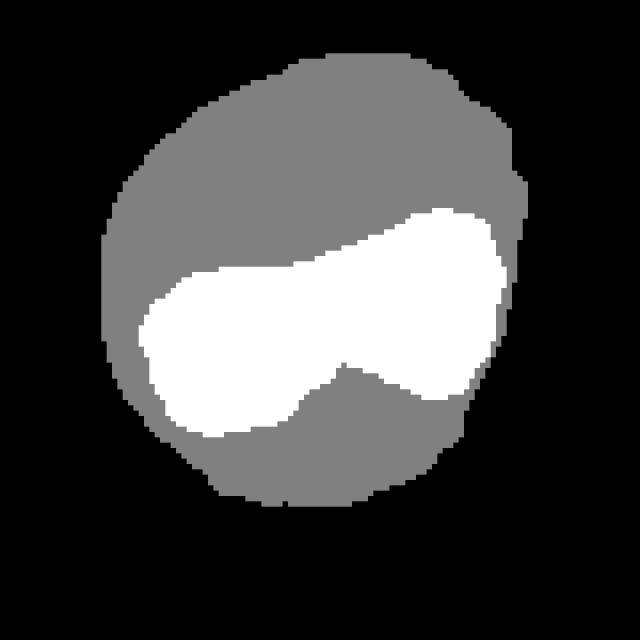WBC: (85, 32, 571, 517)
